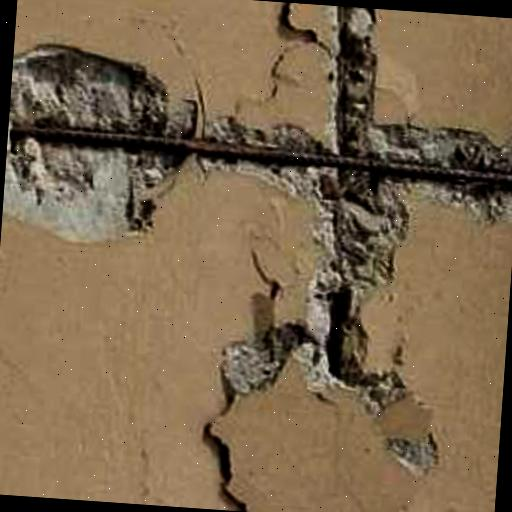spalling: (10, 8, 512, 464)
